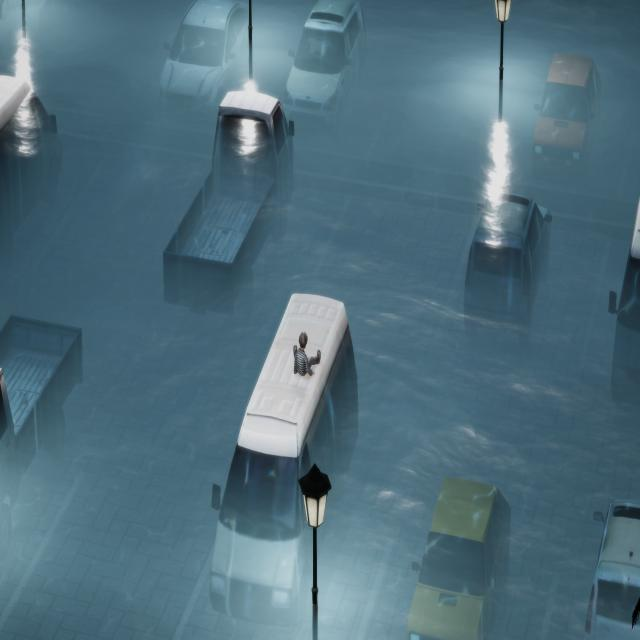Human: (291, 326, 322, 386)
